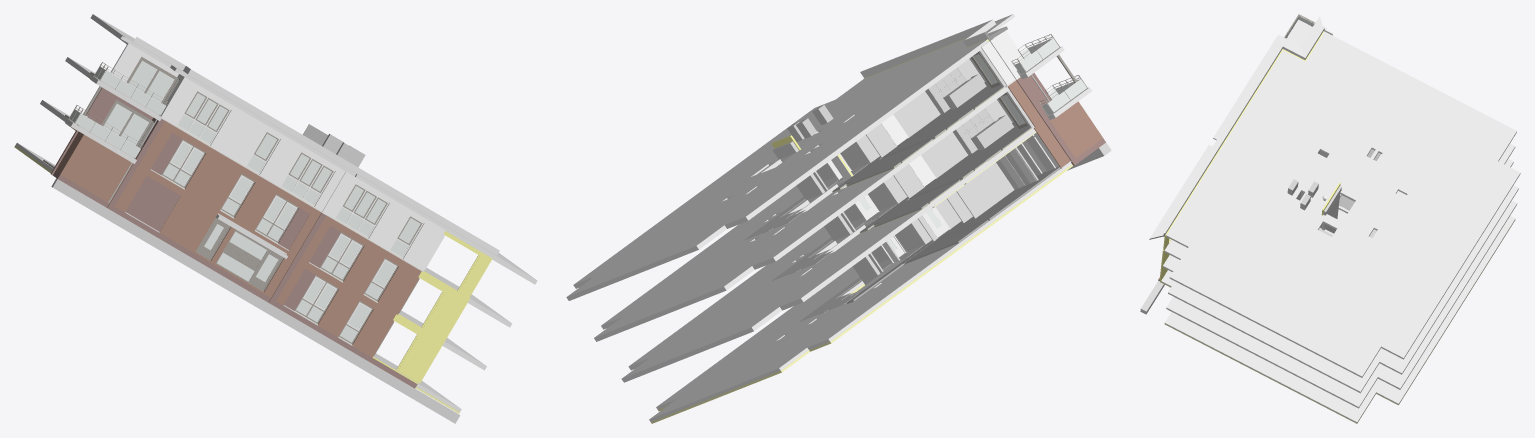
3 views of the same model, side by side, from view 1: azimuth 30°, elevation 25°; view 2: azimuth 150°, elevation 25°; view 3: azimuth 270°, elevation 25° (orthographic). The views are drawn at different scales.
Parts seen in each view (by area): view 1: mesh; view 2: mesh; view 3: mesh.
Boxes of the visible parts, x1,y1,x2,y2 form: mesh: [14, 14, 537, 423]; mesh: [566, 14, 1111, 423]; mesh: [1140, 14, 1520, 423].
Bounding box in the file's own units: 34.28 × 29.69 × 33.9.
